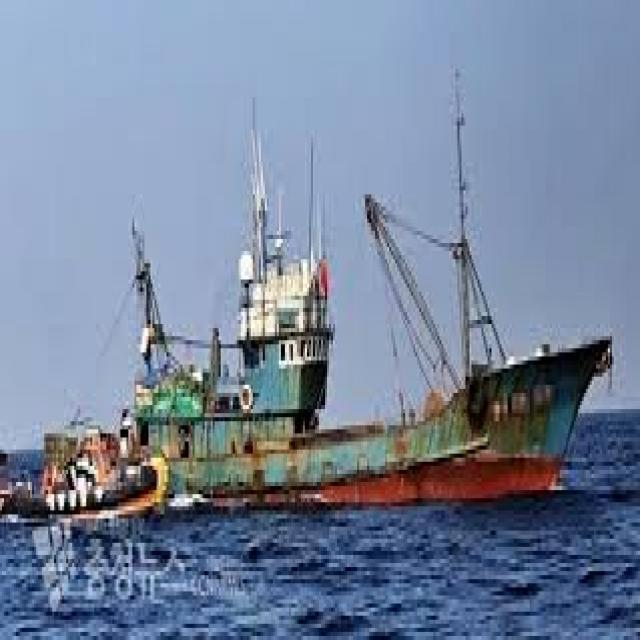Ship: (121, 50, 625, 520)
